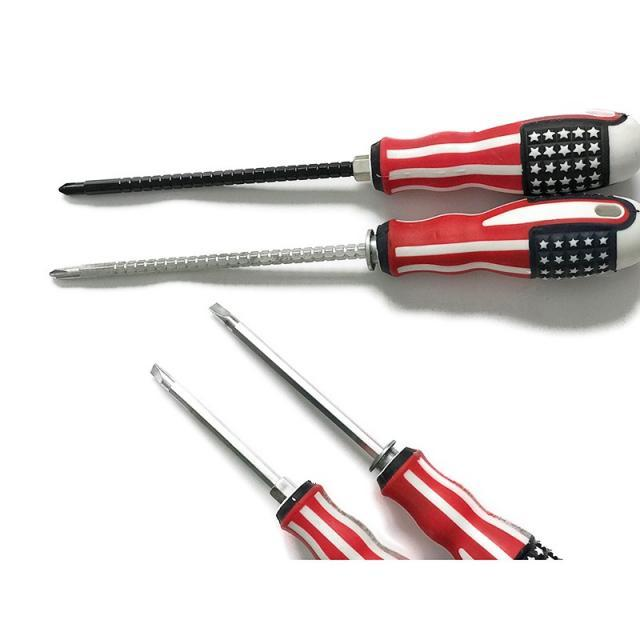screwdriver: (206, 297, 562, 561), (45, 187, 640, 291), (49, 103, 640, 207), (146, 358, 412, 562)
